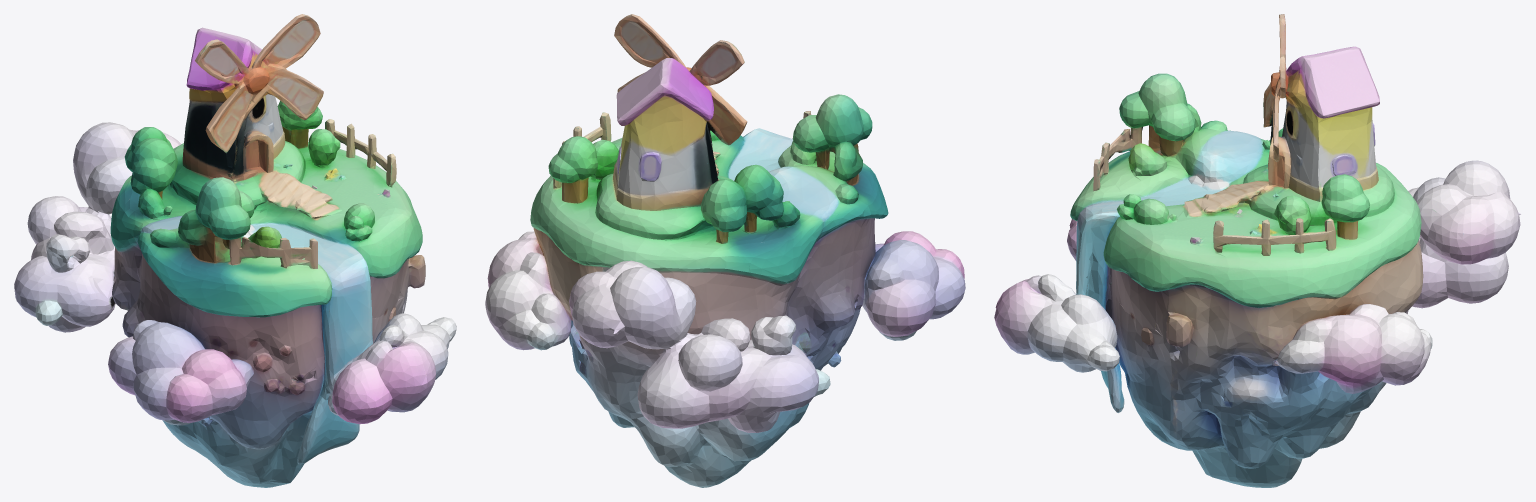
Rendered from fusha.glb.
3 views of the same model, side by side, from view 1: azimuth 30°, elevation 25°; view 2: azimuth 150°, elevation 25°; view 3: azimuth 270°, elevation 25° (orthographic). The views are drawn at different scales.
Parts seen in each view (by area): view 1: world; view 2: world; view 3: world.
Part boxes in pixels (<box>): world: <box>14,14,456,487</box>; world: <box>485,14,965,487</box>; world: <box>994,14,1521,487</box>.
Bounding box in the file's own units: 0.7551 × 0.9355 × 0.9703.
Materials: 1 (1 with a texture image).
